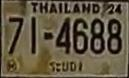1: (30, 17, 35, 54)
4: (55, 17, 70, 53)
6: (72, 17, 87, 53)
7: (8, 16, 23, 54)
8: (107, 18, 121, 53), (90, 18, 104, 53)
RYG: (49, 59, 85, 75)
